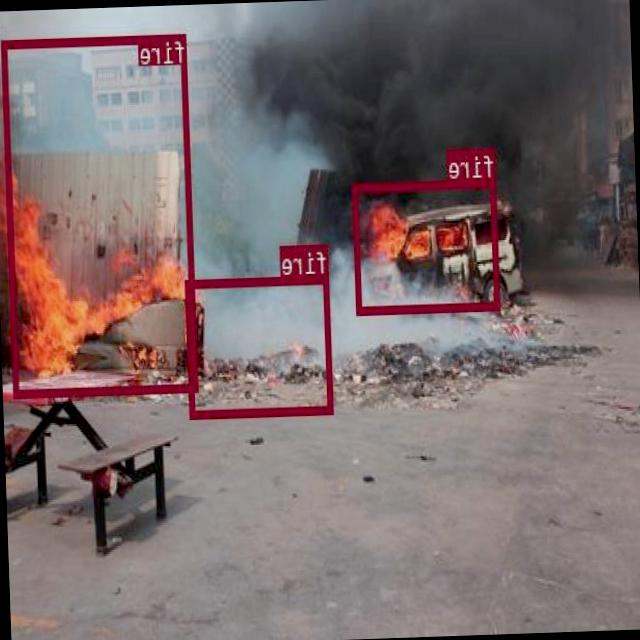fire: (2, 32, 198, 396), (186, 272, 334, 418), (353, 178, 501, 314)
